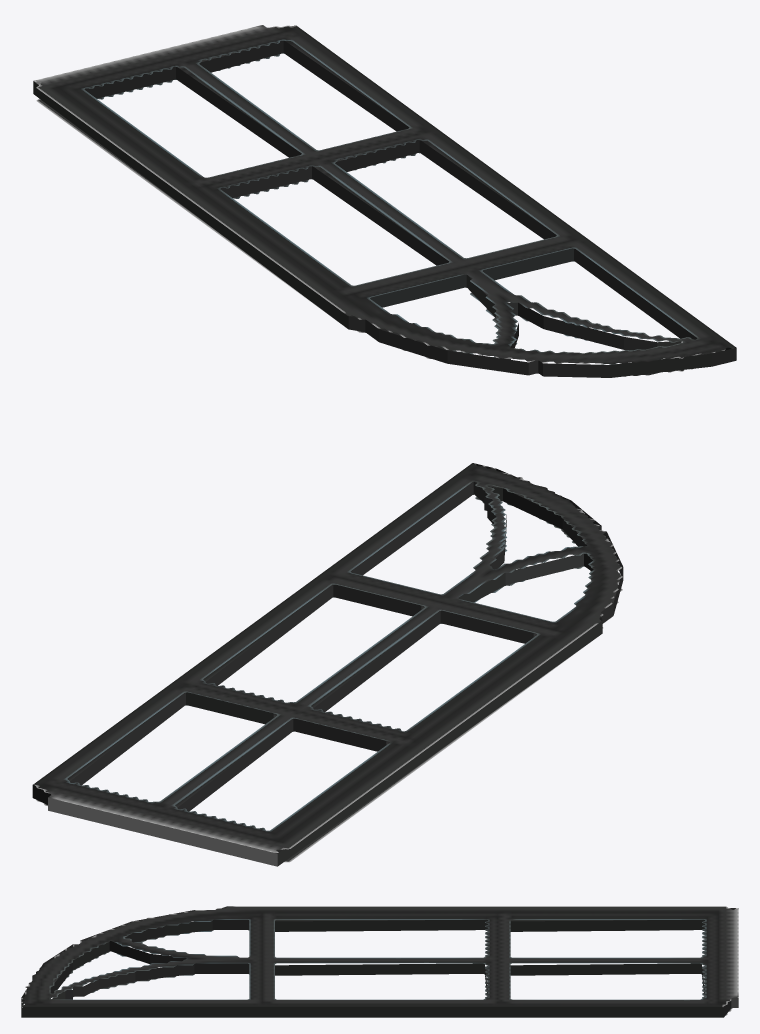
Rendered from pz_native_fixtures_windows_metal_5_frame.obj.
3 renders of one model, top to bottom at view 1: azimuth 30°, elevation 25°; view 2: azimuth 150°, elevation 25°; view 3: azimuth 270°, elevation 25°, orthographic. The views are drawn at different scales.
Visible parts, largest first — view 1: pz_native_fixtures_windows_metal_5_frame; view 2: pz_native_fixtures_windows_metal_5_frame; view 3: pz_native_fixtures_windows_metal_5_frame.
Part boxes in pixels (x1,y1,x2,y2): pz_native_fixtures_windows_metal_5_frame: (33,25,736,377); pz_native_fixtures_windows_metal_5_frame: (32,463,623,866); pz_native_fixtures_windows_metal_5_frame: (21,906,738,1017).
Size of the model in its own units: 0.875 by 0.04 by 2.54.
1 material, 1 textured.
